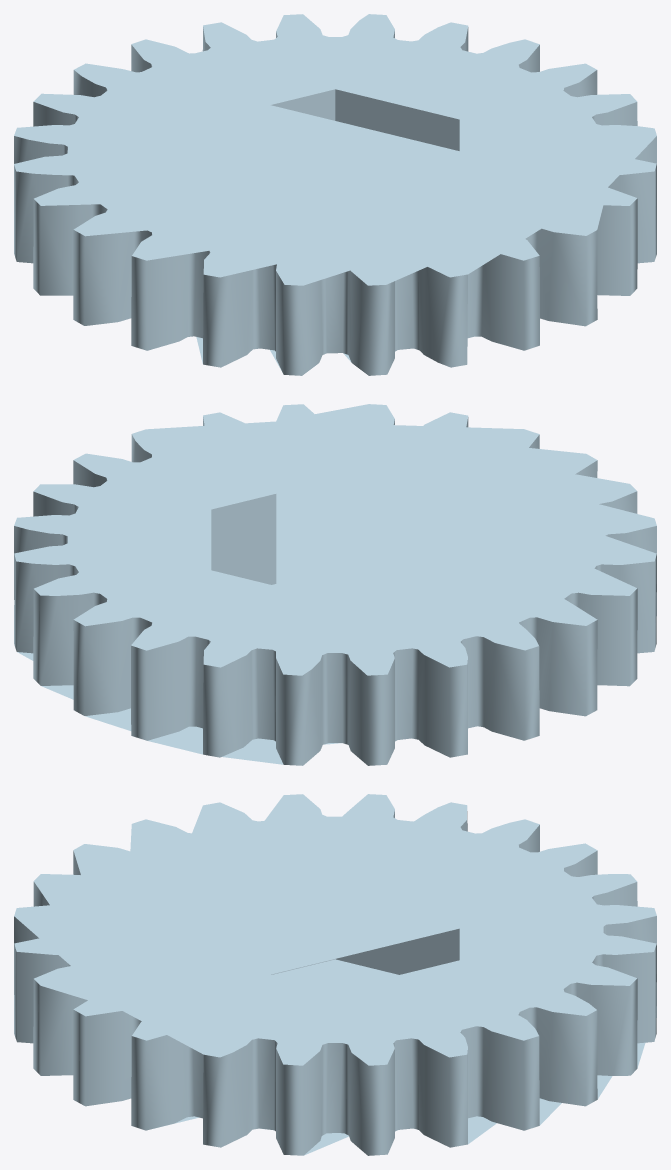
Rendered from hex24t.fbx.
3 views of the same model, one above another, from view 1: azimuth 30°, elevation 25°; view 2: azimuth 150°, elevation 25°; view 3: azimuth 270°, elevation 25° (orthographic).
Parts seen in each view (by area): view 1: Spur gear (24 teeth); view 2: Spur gear (24 teeth); view 3: Spur gear (24 teeth).
Part boxes in pixels (x1,y1,x2,y2): Spur gear (24 teeth): (14,14,656,375); Spur gear (24 teeth): (14,404,656,765); Spur gear (24 teeth): (14,794,656,1155).
Bounding box in the file's own units: 3.28 × 0.508 × 3.28.
